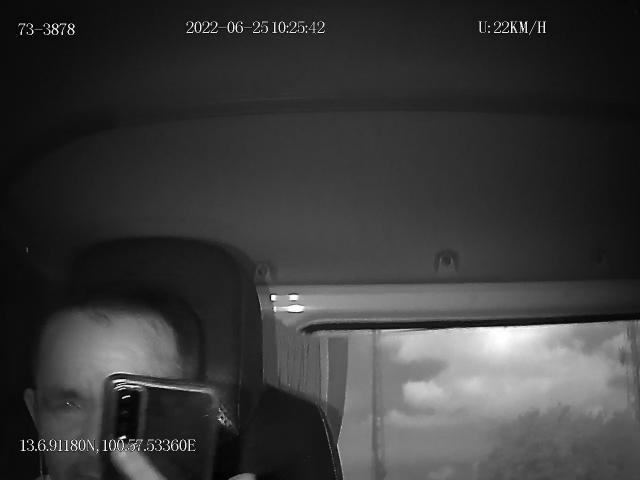Phone: (102, 372, 220, 480)
